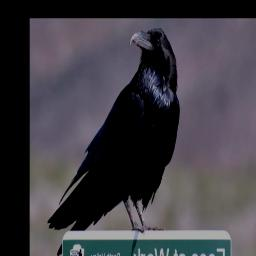Crow: (47, 27, 180, 256)
